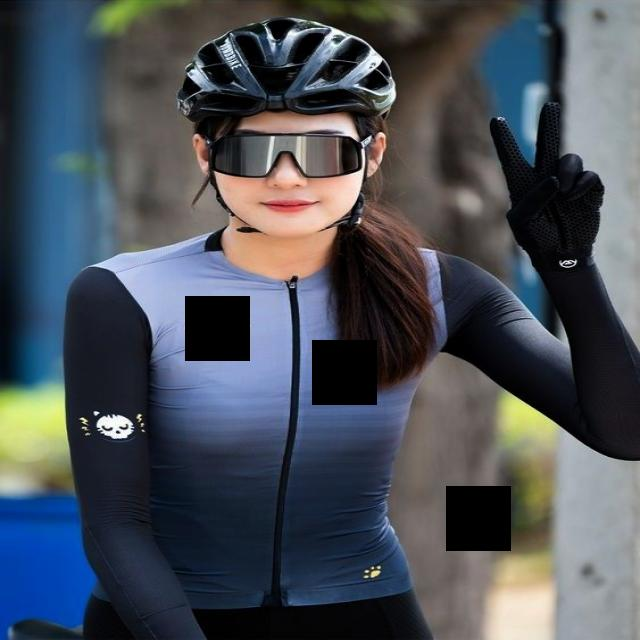Helmet: (175, 15, 400, 238)
